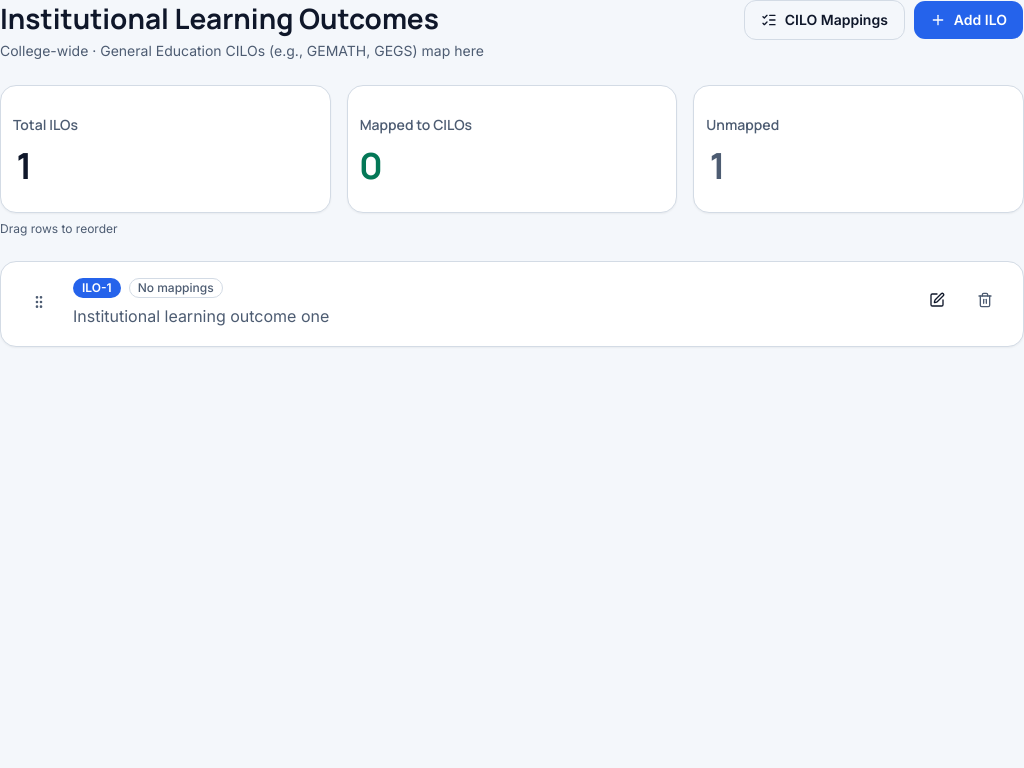
it: GenEdOutcomesPage › keeps dialog open and shows delete/archived error when archiving fails
Click the button named "Archive ILO-1" at (985, 300), box [963,278,1007,322]
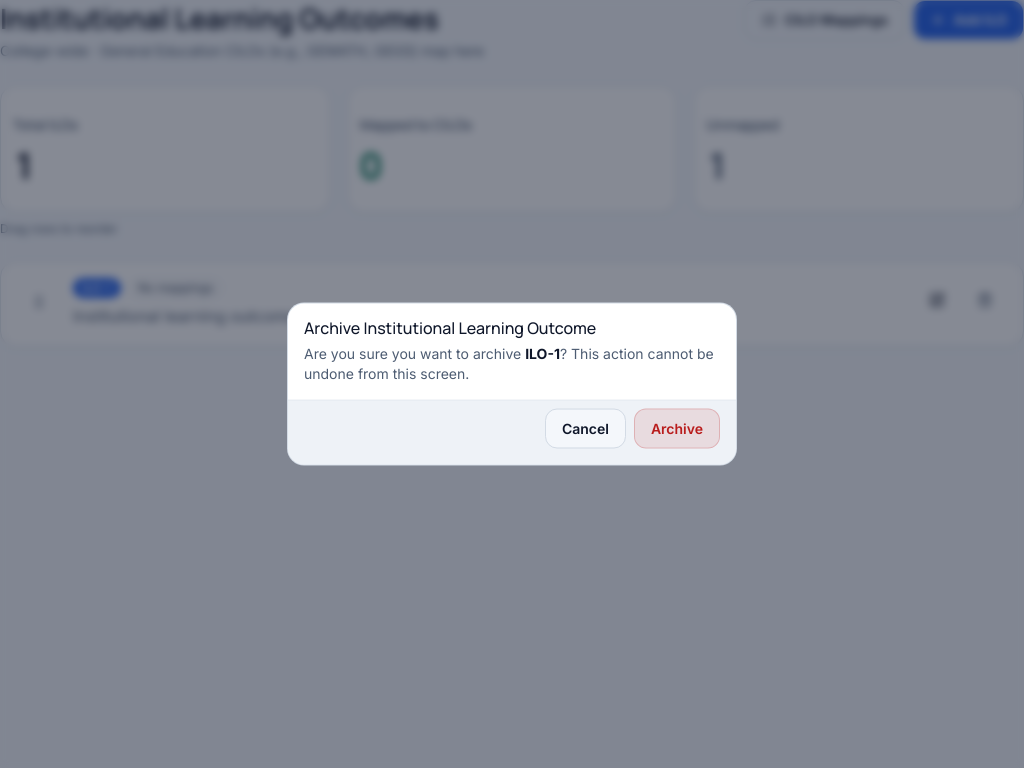
Click the button "Archive" at (677, 428), box [634,408,720,448]
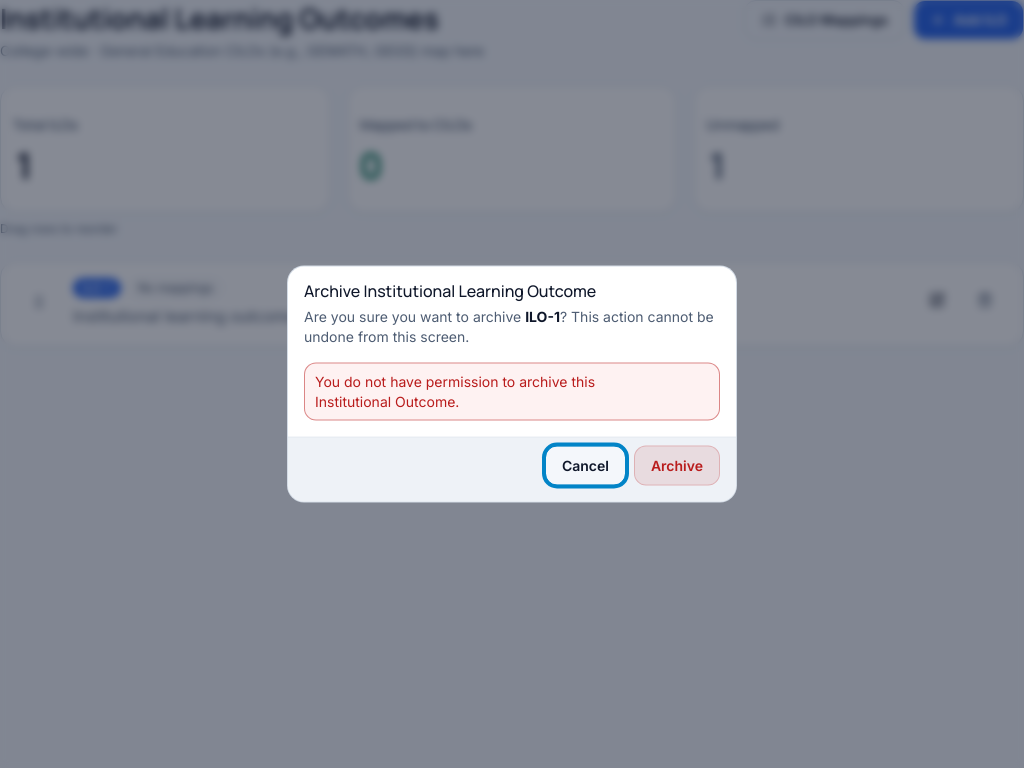
Expected: the dialog is shown, [288,266,736,502]
Expected: the message reads "You do not have permission to archive this Institutional Outcome.", [315,372,595,410]
